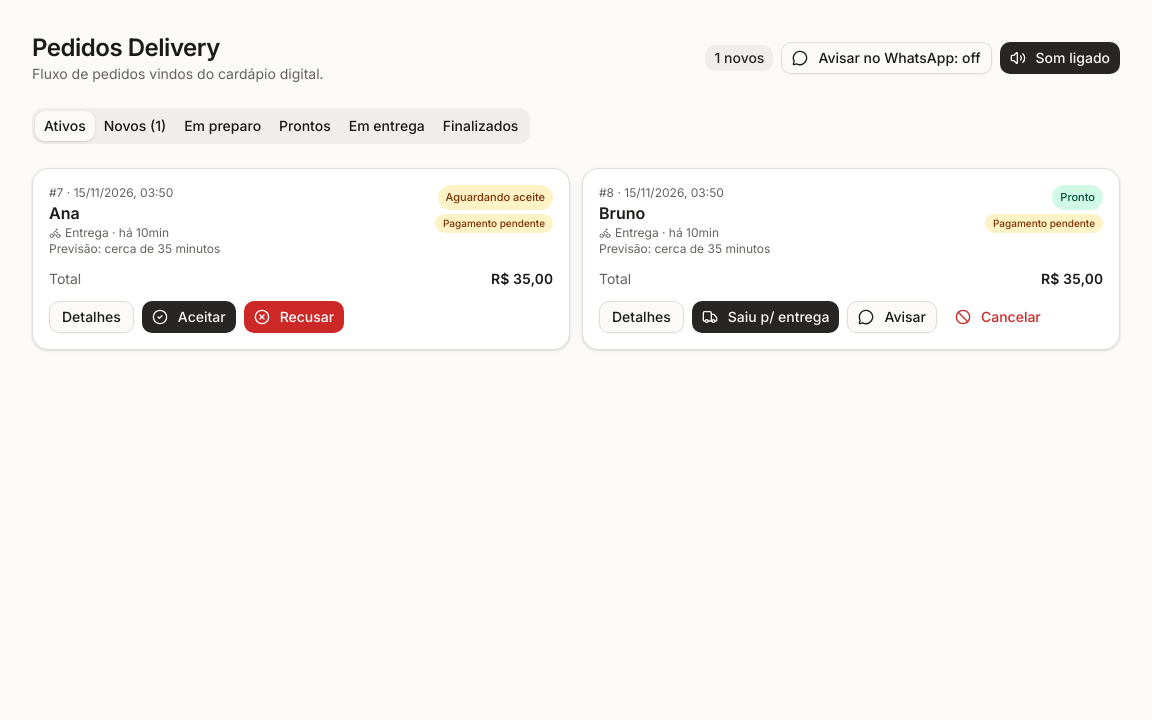
it: PedidosDelivery › exige um motivo com ao menos 3 caracteres para recusar
Later steps or results of the test are not shown.
Expected: the text "Ana" is shown, 49,203 -> 80,223
Click the button "Recusar" at coordinates (294, 317), box 244,301 -> 344,333
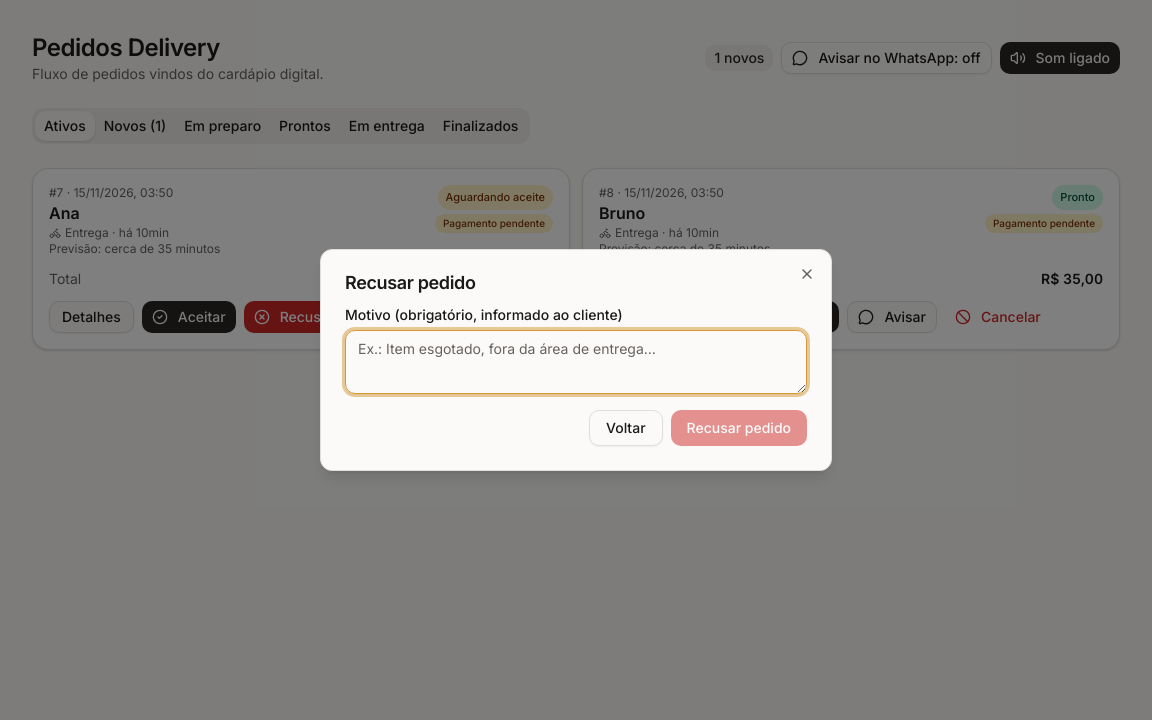
Expected: the button "Recusar pedido" is disabled, 671,410 -> 807,446
Type "Item esgotado" into the text box at coordinates (576, 362), box 345,330 -> 807,394
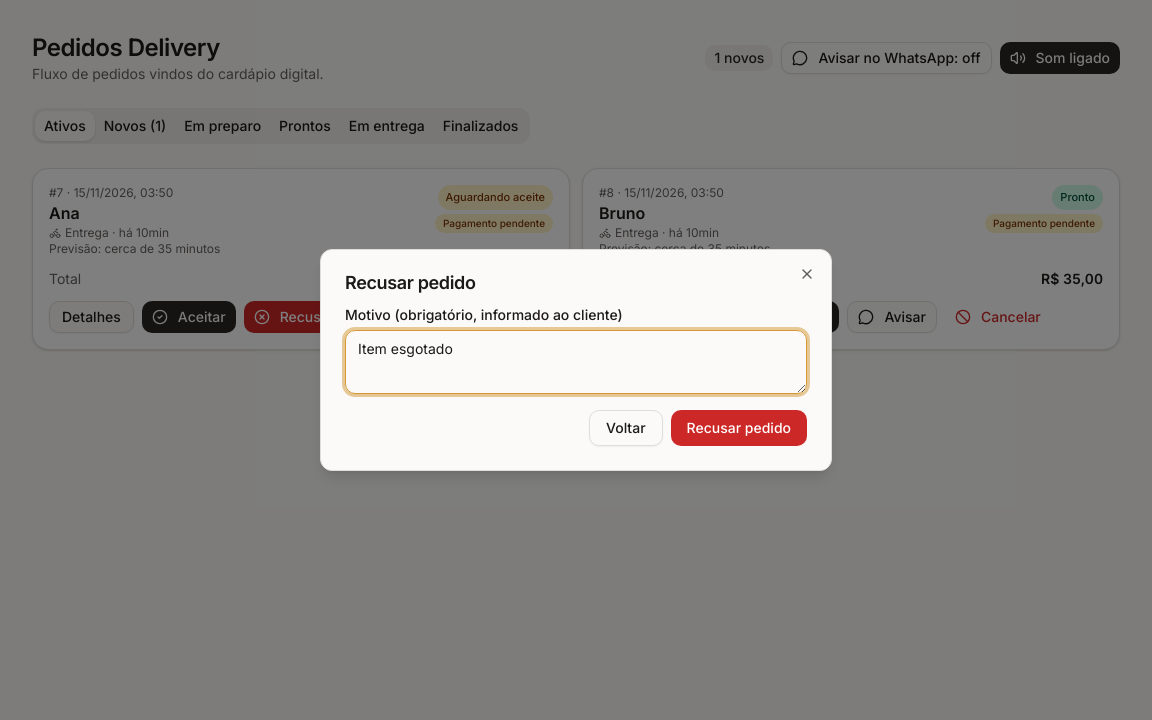
Expected: the button "Recusar pedido" is enabled, 671,410 -> 807,446
